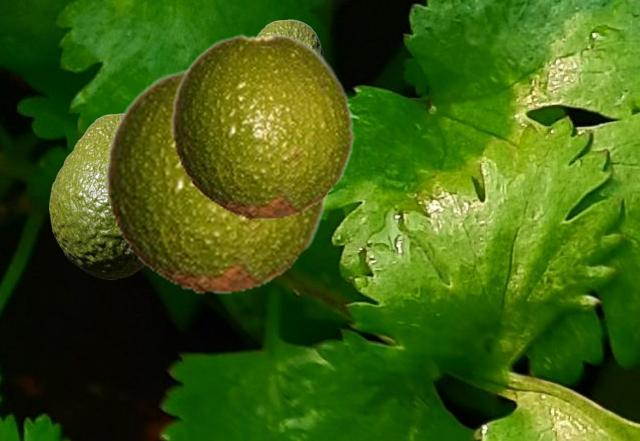avocado: (104, 67, 328, 294), (170, 33, 355, 220), (49, 113, 144, 278), (257, 19, 324, 56)
